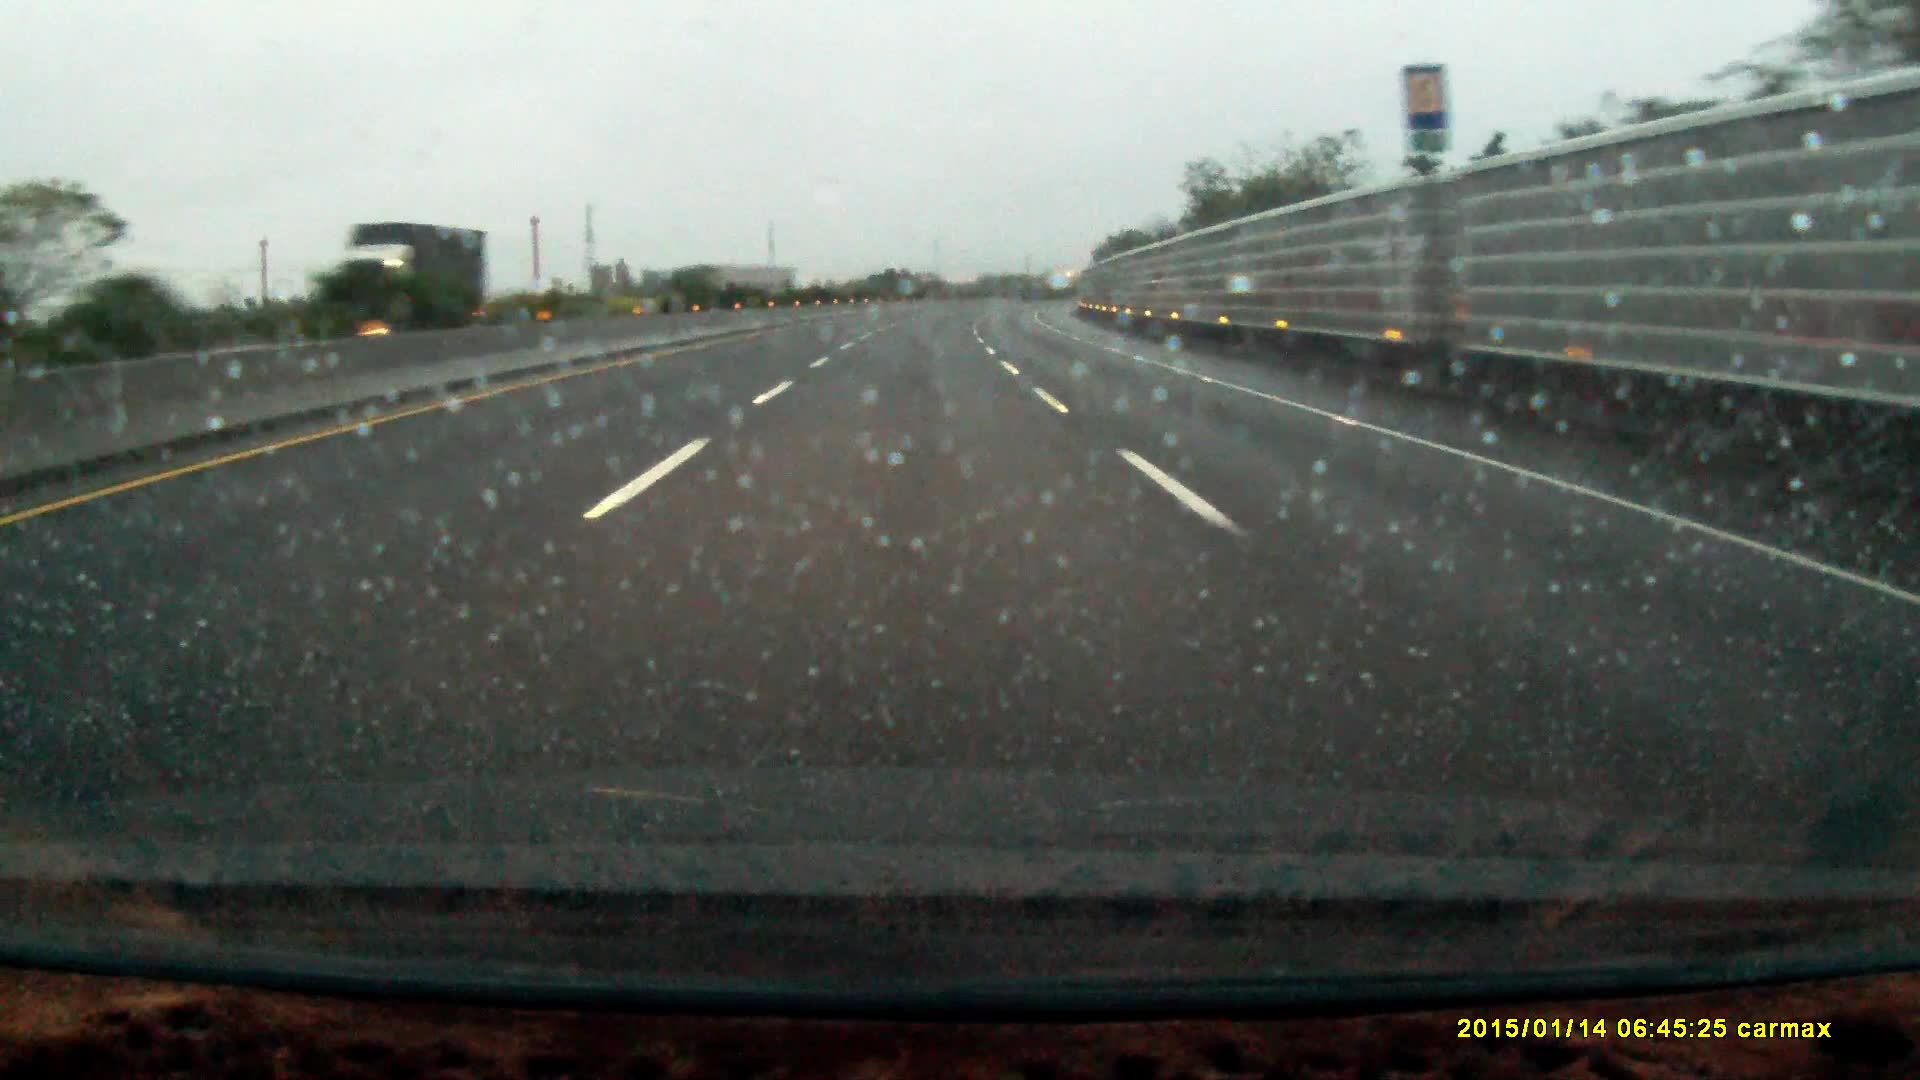vehicle: (328, 222, 492, 334)
